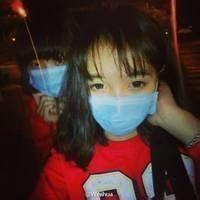face_mask: (87, 43, 155, 132), (27, 47, 68, 96)
